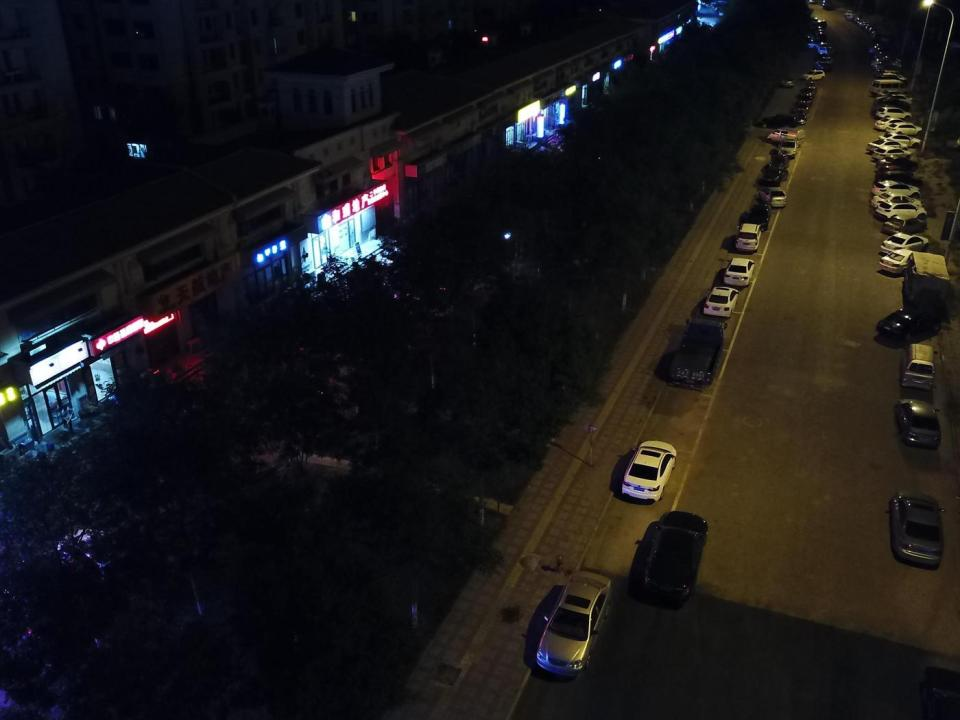car: (529, 569, 612, 676), (640, 510, 708, 606), (887, 489, 948, 570), (618, 439, 677, 502), (892, 394, 944, 449), (874, 307, 942, 341), (702, 285, 742, 320), (878, 249, 927, 275), (875, 200, 926, 224), (880, 232, 930, 255), (870, 192, 926, 212), (874, 172, 923, 192), (724, 257, 754, 287), (882, 216, 926, 236), (734, 222, 762, 253), (879, 132, 923, 150), (869, 184, 921, 199), (760, 114, 804, 130), (875, 167, 915, 184), (748, 204, 772, 230), (761, 164, 789, 186), (758, 186, 788, 206), (876, 106, 912, 122), (877, 157, 918, 171), (887, 124, 925, 139), (873, 119, 915, 132), (874, 104, 912, 118), (868, 139, 908, 152), (877, 94, 914, 108), (877, 68, 909, 84), (873, 148, 911, 161), (875, 100, 911, 113), (779, 134, 798, 158), (878, 73, 906, 88), (873, 63, 904, 76), (878, 89, 906, 103), (873, 56, 902, 68), (872, 58, 901, 70), (800, 68, 826, 81), (876, 77, 906, 88), (768, 152, 788, 168), (792, 104, 810, 117), (874, 49, 897, 59), (816, 60, 832, 73), (798, 93, 813, 106), (815, 56, 832, 66), (801, 86, 815, 98), (781, 76, 795, 88), (805, 81, 818, 93), (870, 43, 892, 50), (819, 46, 836, 55), (816, 19, 828, 30), (822, 1, 834, 11), (807, 42, 823, 49), (808, 15, 819, 25), (816, 28, 826, 38), (804, 33, 812, 44), (858, 18, 869, 26), (870, 30, 882, 37), (860, 22, 872, 29), (815, 25, 824, 34), (818, 40, 828, 48), (816, 36, 827, 43), (881, 34, 890, 42), (816, 32, 826, 39), (843, 9, 853, 16), (874, 33, 882, 41), (856, 16, 864, 24), (845, 14, 856, 19), (865, 24, 874, 30), (869, 26, 876, 33)
truck: (667, 317, 728, 388), (901, 248, 953, 311)
van: (900, 341, 939, 391), (765, 126, 807, 146), (871, 80, 908, 96)
